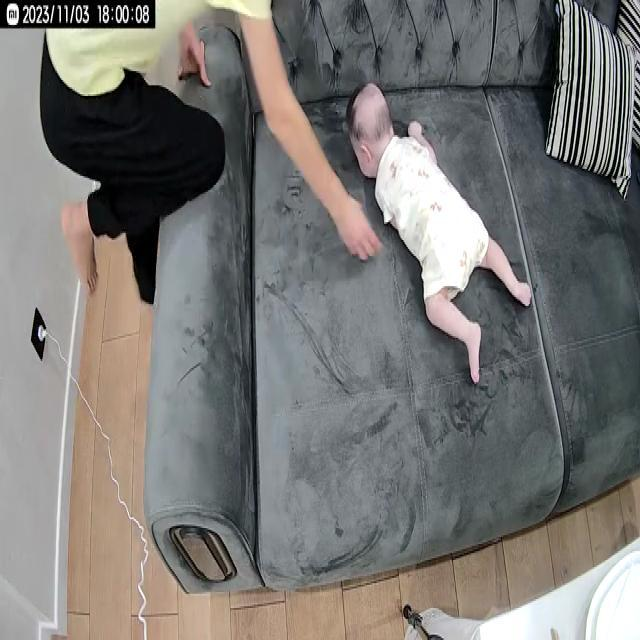baby: (345, 80, 533, 387)
